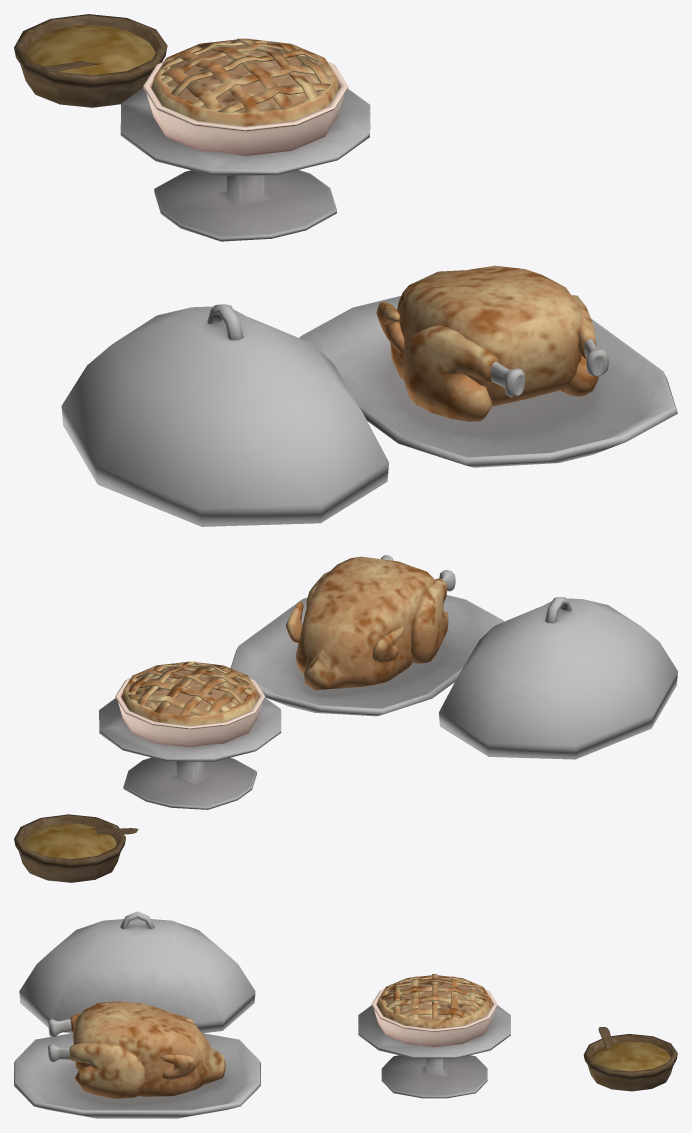
The model's file is TavukÇorbaApplepie.fbx.
The picture shows the model from 3 angles, top to bottom: view 1: azimuth 30°, elevation 25°; view 2: azimuth 150°, elevation 25°; view 3: azimuth 270°, elevation 25°; orthographic projection. The views are drawn at different scales.
Visible parts, largest first — view 1: Smallspoon, Smallspoon.002, Smallspoon.003; view 2: Smallspoon, Smallspoon.002, Smallspoon.003; view 3: Smallspoon, Smallspoon.002, Smallspoon.003.
Boxes of the visible parts, x1,y1,x2,y2 form: Smallspoon: (61, 265, 677, 526); Smallspoon.002: (120, 38, 370, 241); Smallspoon.003: (14, 14, 167, 107); Smallspoon: (230, 555, 677, 759); Smallspoon.002: (99, 661, 281, 809); Smallspoon.003: (14, 814, 138, 882); Smallspoon: (14, 911, 260, 1118); Smallspoon.002: (358, 974, 510, 1098); Smallspoon.003: (583, 1027, 677, 1091).
Size of the model in its own units: 47.46 by 13.73 by 84.54.
Materials: 1 (1 with a texture image).
